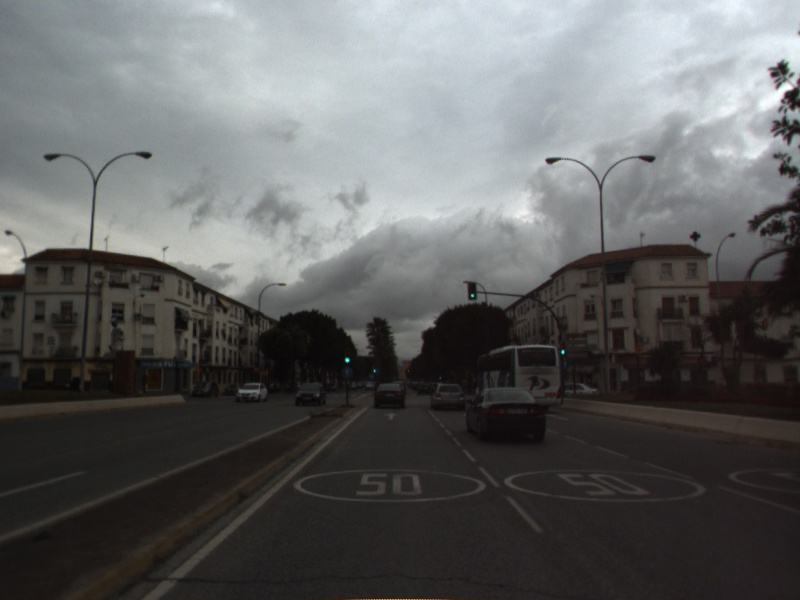STRAIGHT: (382, 411, 401, 422)
